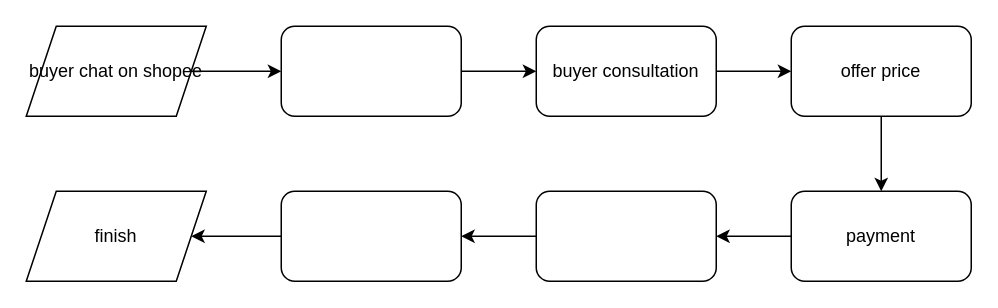
This 998x308 diagram has some shape labels left out. The shapes that lost their labels are listed below. From the top down, each one's box as (x1, y1, x2, y2) in pixels, then its label:
(280, 25, 461, 116): send file (stl, obj, 3mf, etc.
(280, 190, 461, 281): delivery
(535, 190, 716, 281): checkout process
